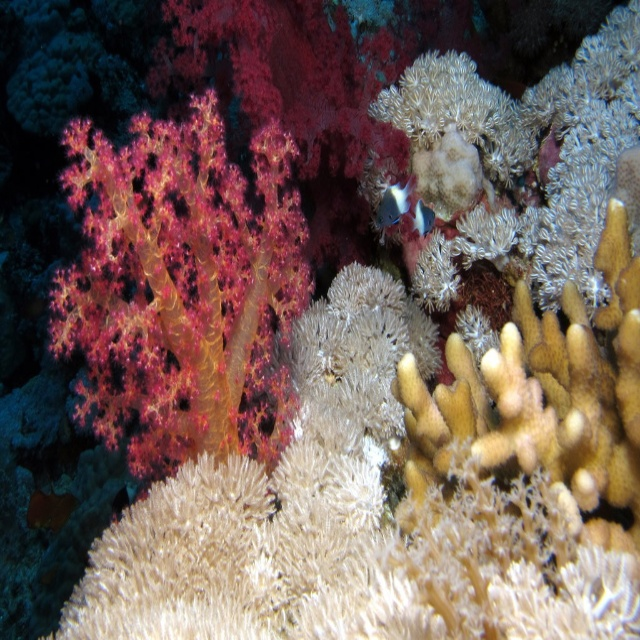Fish: (373, 179, 416, 230), (408, 197, 437, 238)
